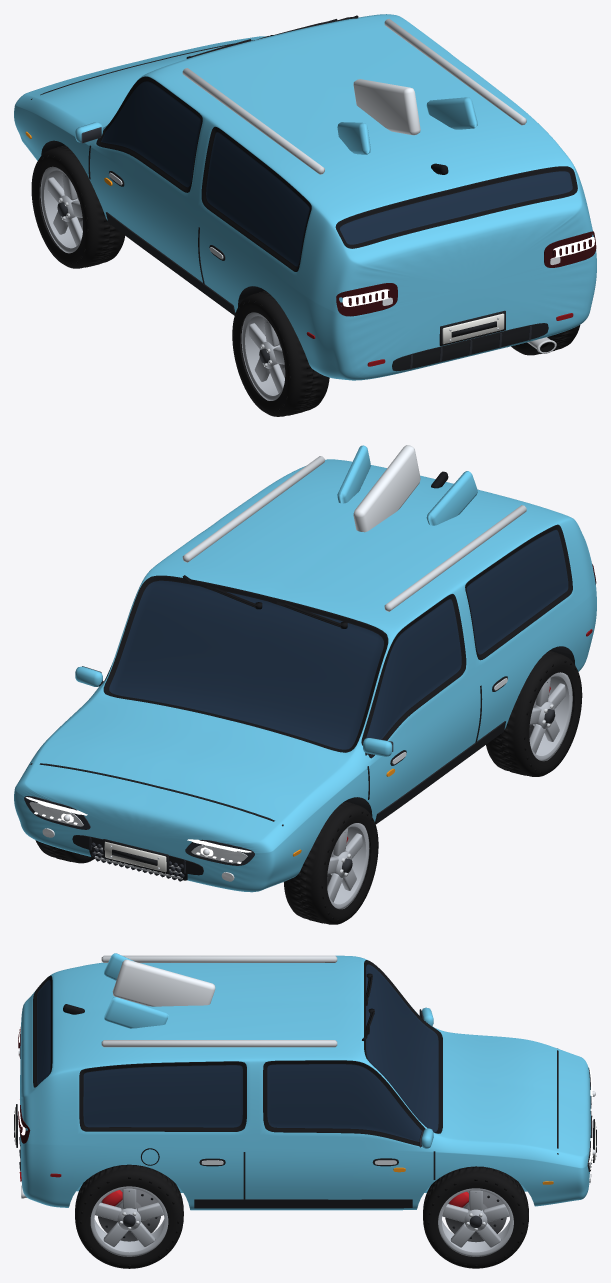
Rendered from glacier.glb.
3 views of the same model, one above another, from view 1: azimuth 30°, elevation 25°; view 2: azimuth 150°, elevation 25°; view 3: azimuth 270°, elevation 25° (orthographic). The views are drawn at different scales.
Parts seen in each view (by area): view 1: Body, Wheel_RL, Wheel_FL, Wheel_RR; view 2: Body, Wheel_FL, Wheel_RL; view 3: Body, Wheel_RR, Wheel_FR.
Boxes of the visible parts, <box> form: Body: <box>14,14,596,380</box>; Wheel_RL: <box>232,290,329,416</box>; Wheel_FL: <box>31,145,124,268</box>; Wheel_RR: <box>511,325,580,355</box>; Body: <box>14,445,596,892</box>; Wheel_FL: <box>283,801,378,924</box>; Wheel_RL: <box>486,651,582,776</box>; Body: <box>14,953,596,1210</box>; Wheel_RR: <box>75,1164,183,1268</box>; Wheel_FR: <box>423,1166,528,1268</box>.
Size of what is drawn, in the model's own units: 2.25 by 1.99 by 4.21.
